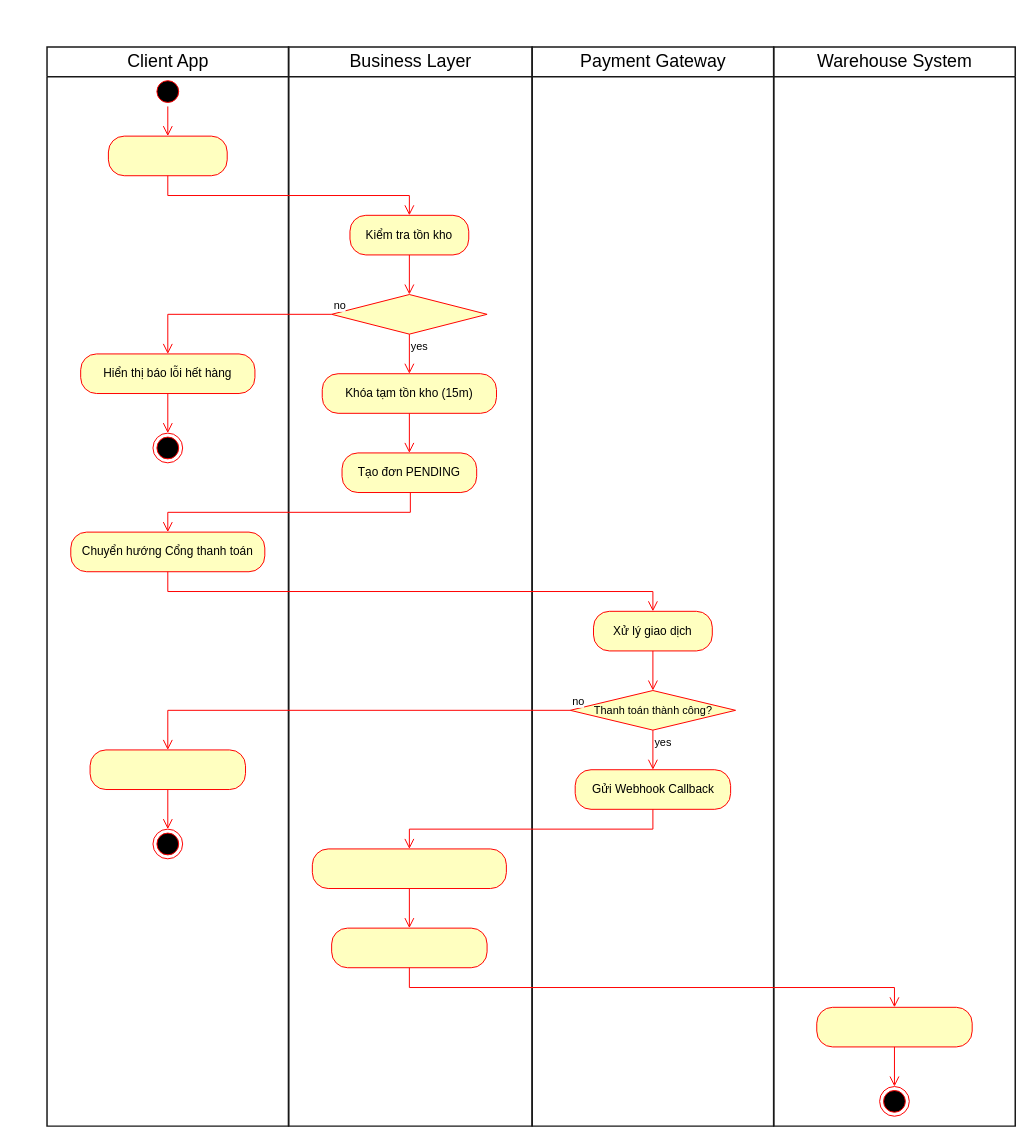
The diagram is 1033 pixels wide and 1143 high, and some of its shapes have lost their labels. Here are the shapes that lost their labels. From the top down, the centre of each, then its label:
At point 167,155: "Bấm Đặt hàng".
At point 409,314: "Hàng trong kho đủ?".
At point 167,769: "Báo thanh toán thất bại".
At point 408,868: "Cập nhật đơn -> CONFIRMED".
At point 409,947: "Bắn đơn sang kho xử lý".
At point 894,1026: "Tiếp nhận & Đóng gói".
